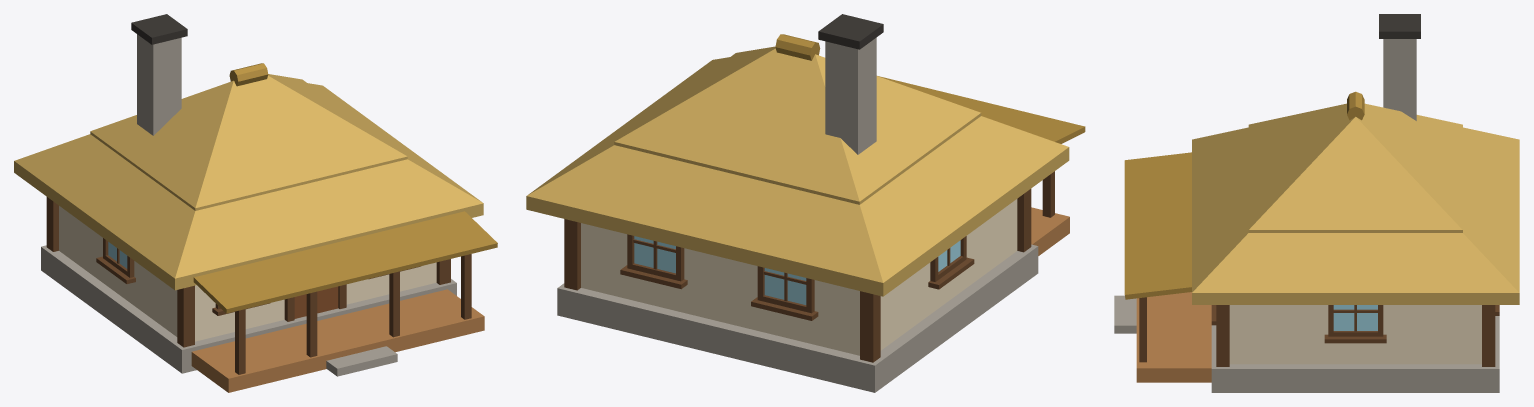
File: house_3.glb
3 views of the same model, side by side, from view 1: azimuth 30°, elevation 25°; view 2: azimuth 150°, elevation 25°; view 3: azimuth 270°, elevation 25° (orthographic). The views are drawn at different scales.
Visible parts, largest first — view 1: House_3; view 2: House_3; view 3: House_3.
Part boxes in pixels (x1,y1,x2,y2): House_3: (14,14,497,392); House_3: (526,14,1085,392); House_3: (1114,14,1519,392).
Bounding box in the file's own units: 8.2 × 6.68 × 9.15.
